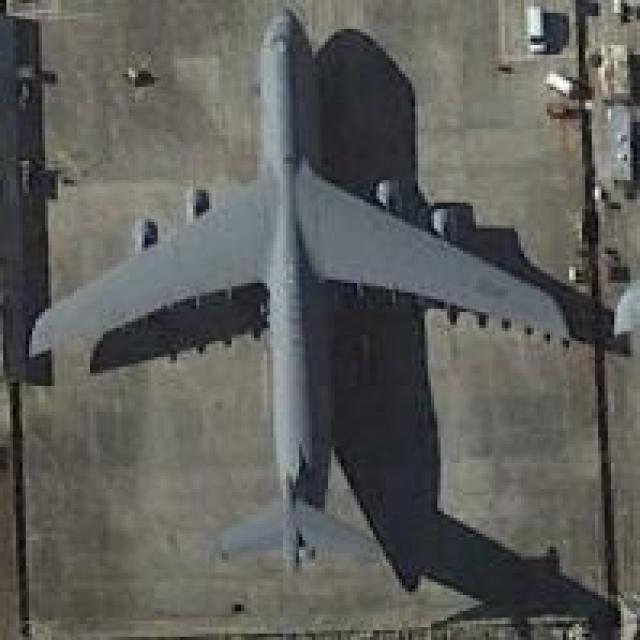C-5_TopDown: (34, 9, 625, 626)
